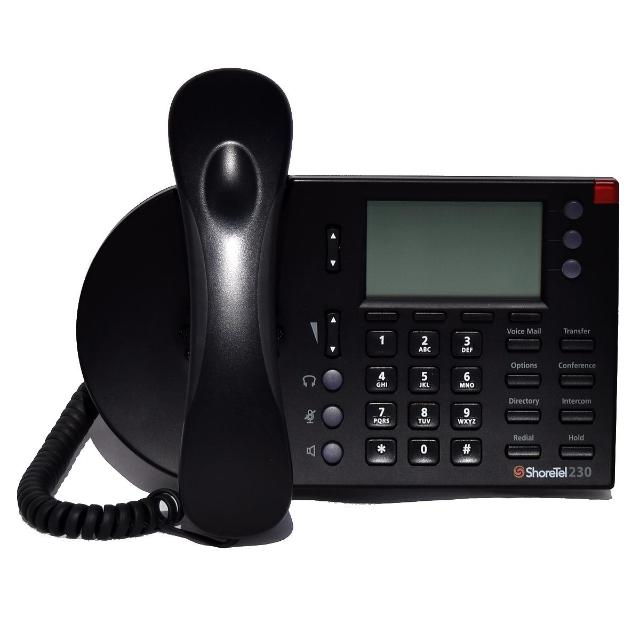Telephone-Set: (98, 65, 640, 551)
